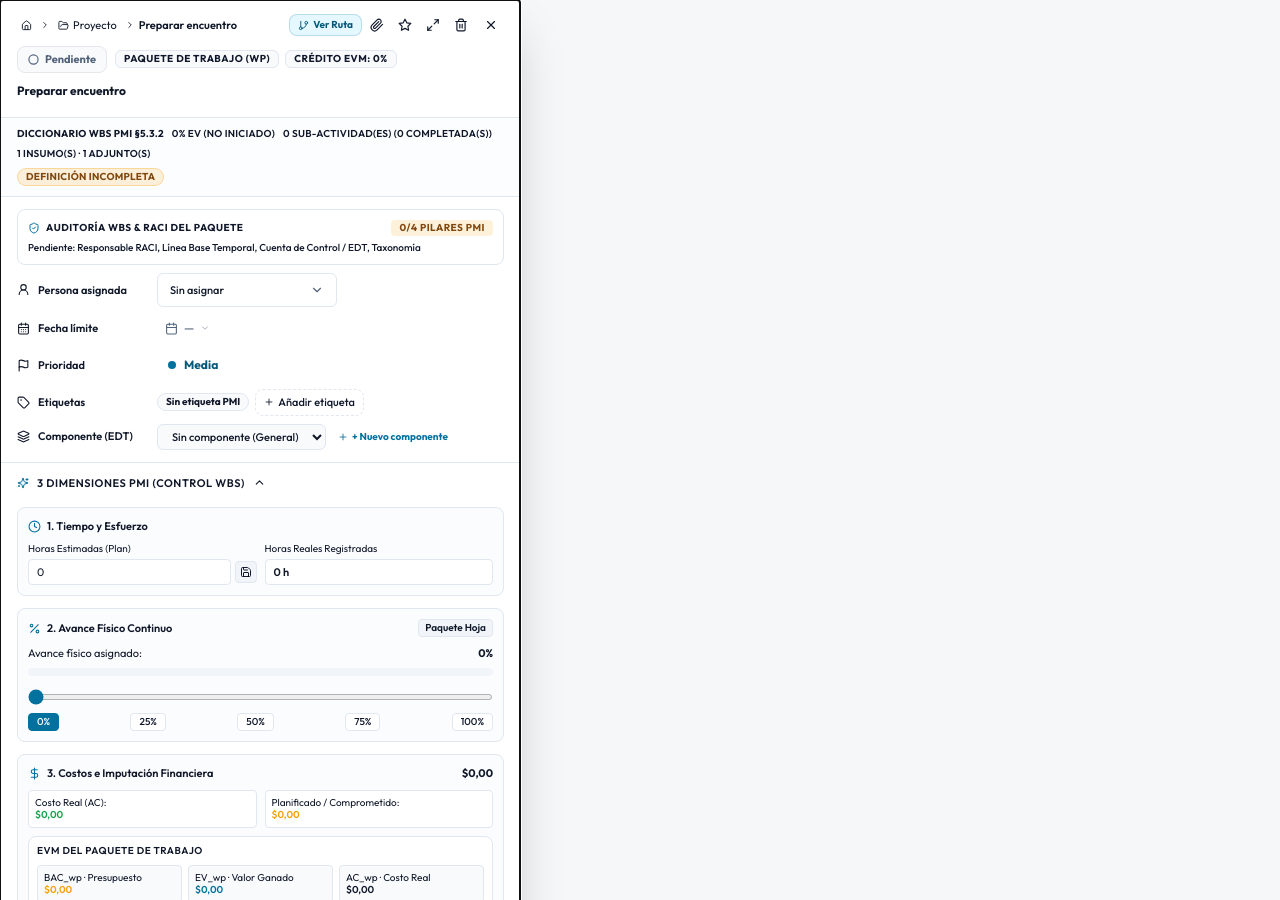
it: TaskDetailPanel integrated accessibility › keeps task deletion confirmation open after a failed request
Click the button named "Eliminar tarea". click: (461, 25)
box: [448,12,474,38]
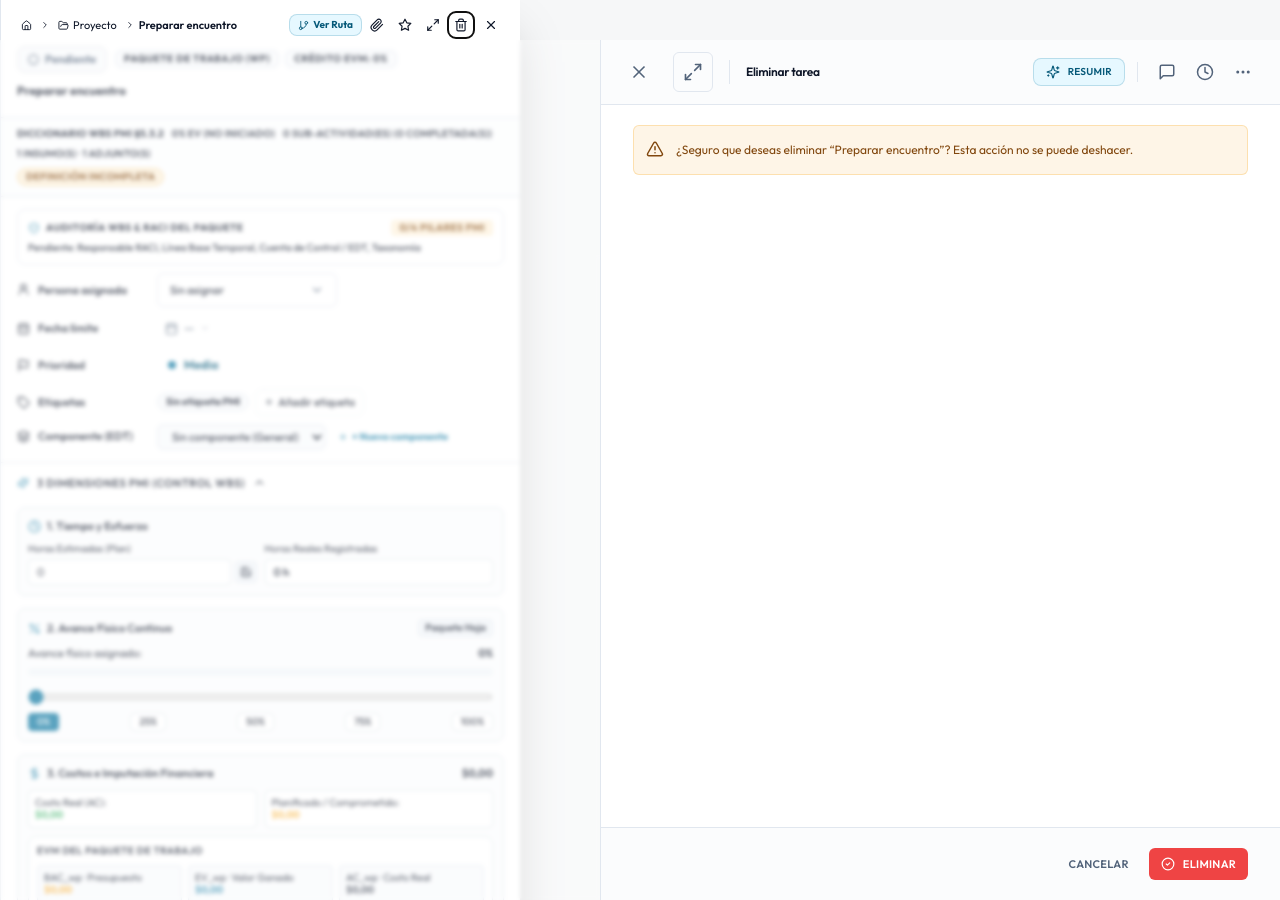
Click the button "Eliminar". click: (1198, 864)
box: [1149,848,1248,880]
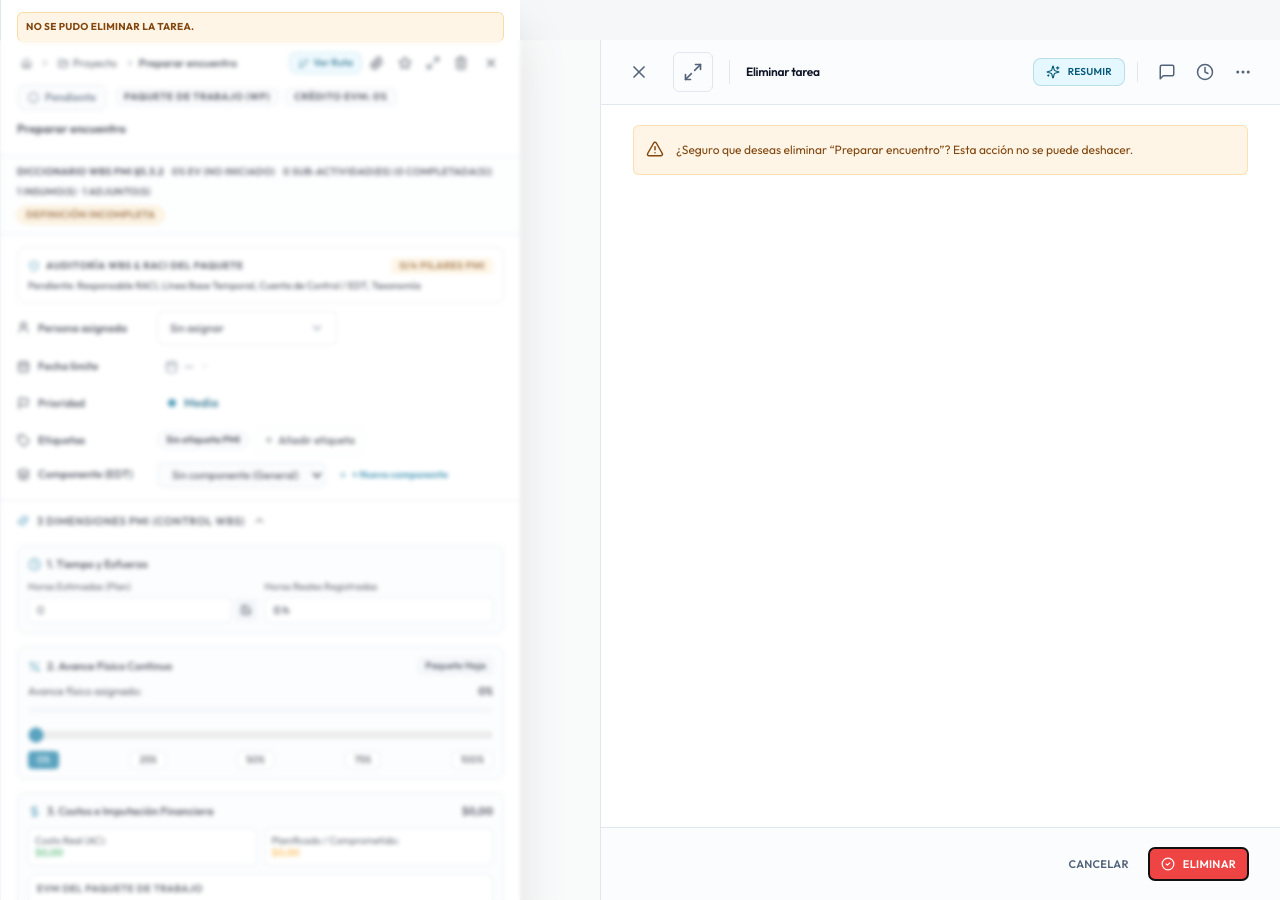
Result: the element "Eliminar tarea" is shown at [600,40,1279,899]
Result: the message reads "No se pudo eliminar la tarea." at [26,20,194,33]
